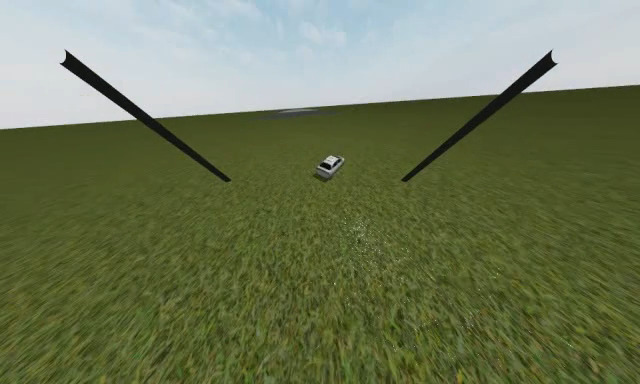Car: (315, 154, 346, 180)
